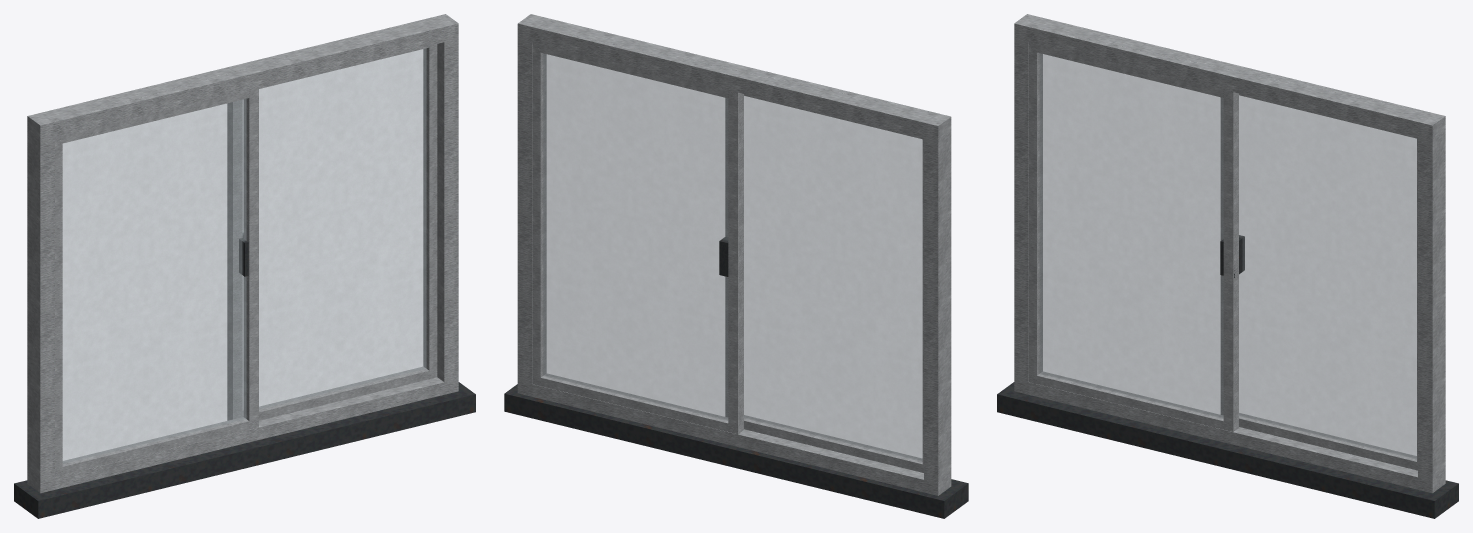
File: window_frame.glb
3 renders of one model, left to right at view 1: azimuth 30°, elevation 25°; view 2: azimuth 150°, elevation 25°; view 3: azimuth 330°, elevation 25°, orthographic.
Visible parts, largest first — view 1: window_frame; view 2: window_frame; view 3: window_frame.
Boxes of the visible parts, <box> form: window_frame: <box>14,14,475,518</box>; window_frame: <box>504,14,968,518</box>; window_frame: <box>997,14,1458,518</box>.
Bounding box in the file's own units: 1.36 × 1.14 × 0.13.
3 materials, 3 textured.
